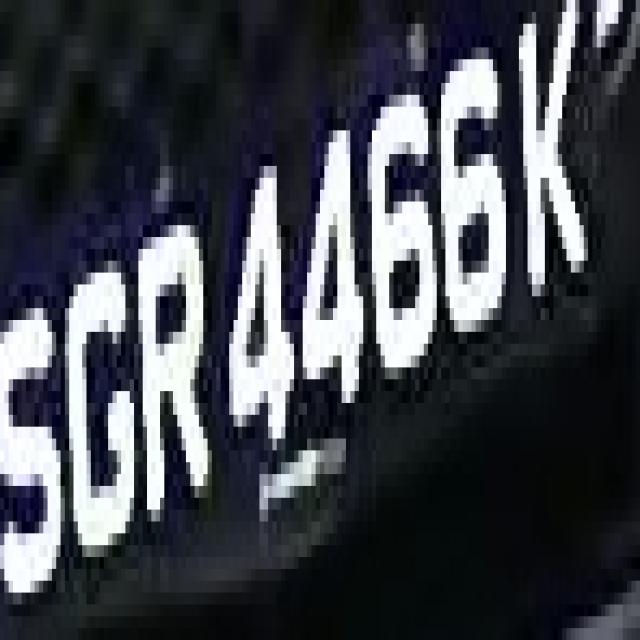4: (212, 107, 294, 474), (277, 107, 363, 450)
6: (428, 12, 515, 403), (359, 59, 445, 403)
G: (56, 201, 143, 581)
K: (501, 0, 596, 367)
R: (134, 166, 212, 533)
